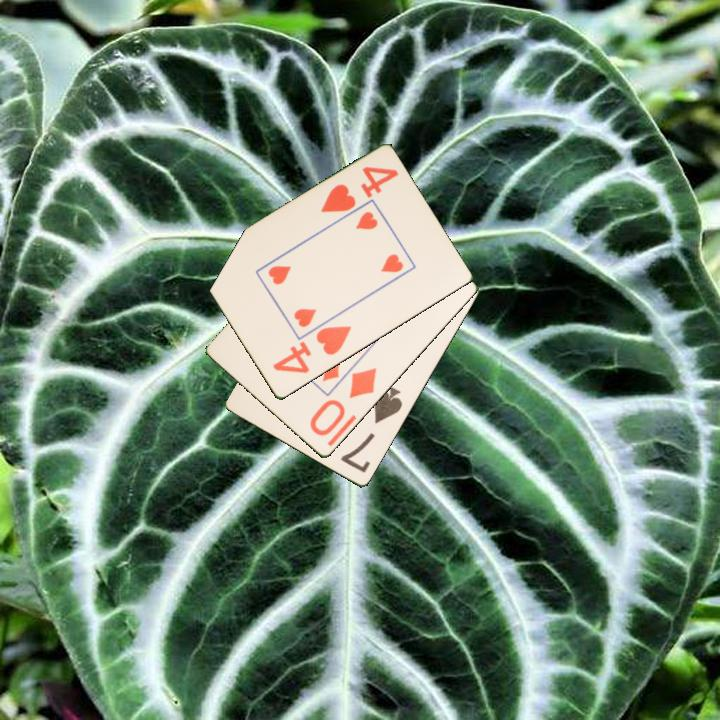10d: (306, 364, 380, 440)
4h: (269, 323, 354, 377), (317, 163, 402, 216)
7s: (337, 383, 406, 476)
